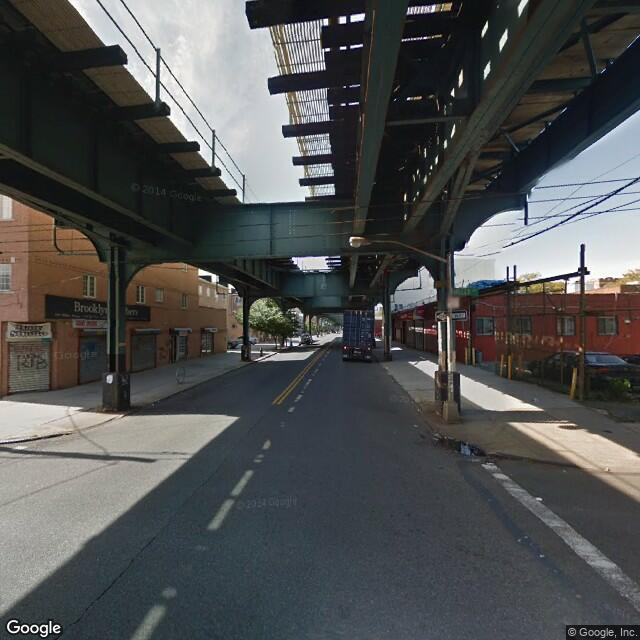litter: (535, 496, 543, 502), (605, 467, 610, 473), (413, 421, 417, 426), (538, 554, 541, 557), (416, 407, 420, 409)
